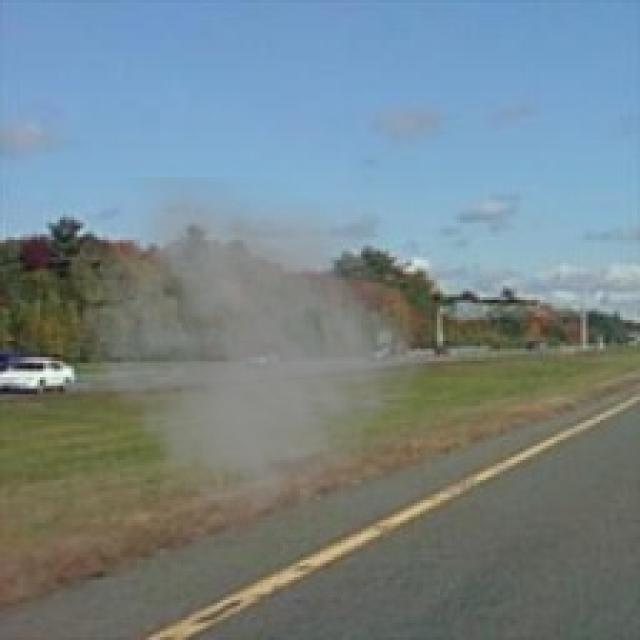smoke: (60, 177, 443, 554)
